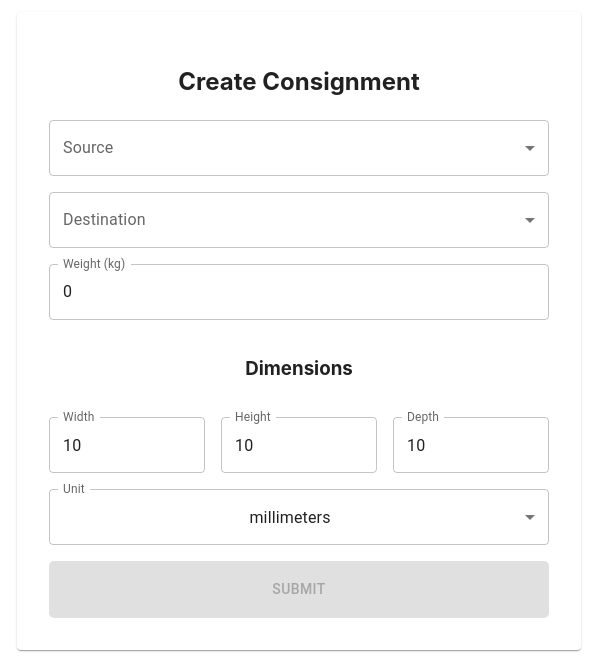
check dimension conversion from unit update
Check: the element with test id "unit-select" is shown, box [49,489,549,545]
Replace the text in the number field labelled "Width" with "100" at (127, 445), box [49,417,205,473]
Replace the text in the number field labelled "Height" with "200" at (299, 445), box [221,417,377,473]
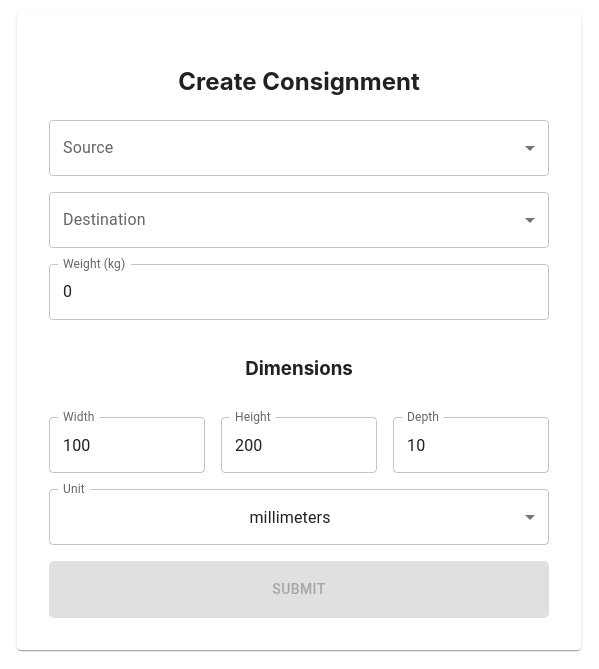
Replace the text in the number field labelled "Depth" with "300" at (471, 445), box [393,417,549,473]
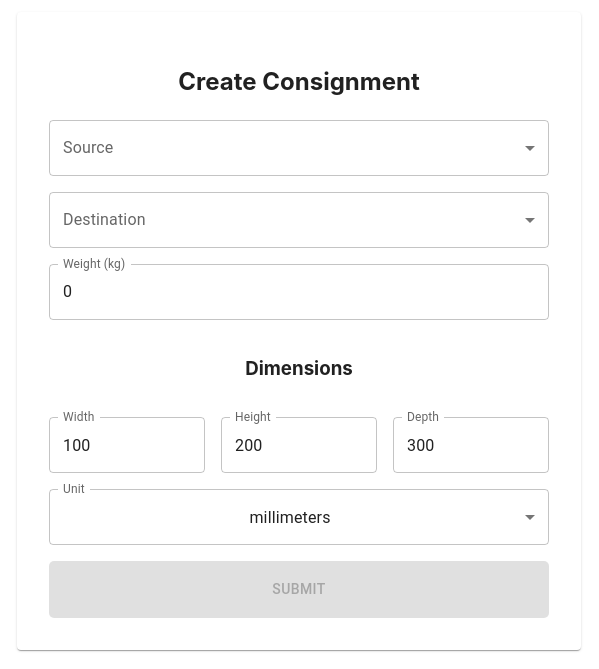
Press the mouse on the dropdown named "Unit" at (290, 517), box [249,508,331,527]
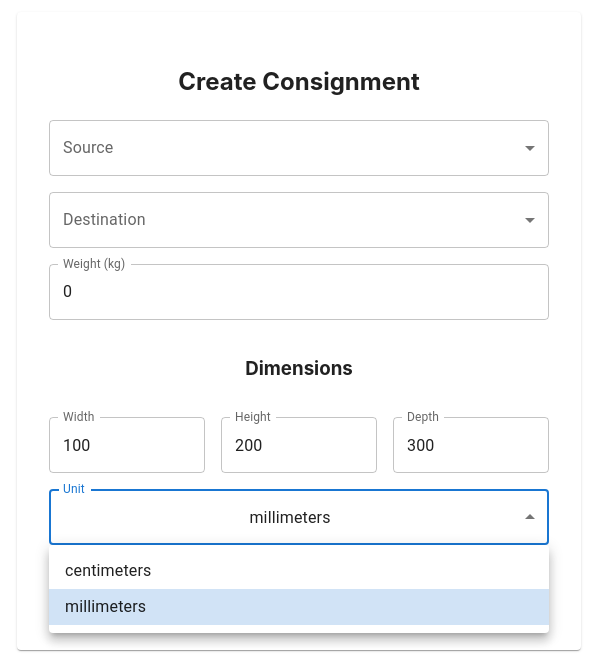
Click the option "centimeters" at (108, 570), box [65,561,151,580]
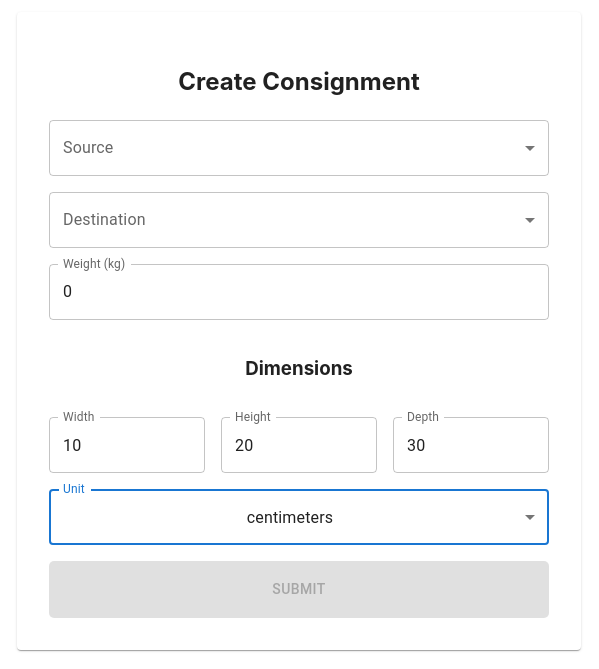
Check: the list is gone
Check: the number field labelled "Width" holds "10", box [49,417,205,473]
Check: the number field labelled "Height" holds "20", box [221,417,377,473]
Press the mouse on the dropdown named "Unit" at (290, 517), box [247,508,333,527]
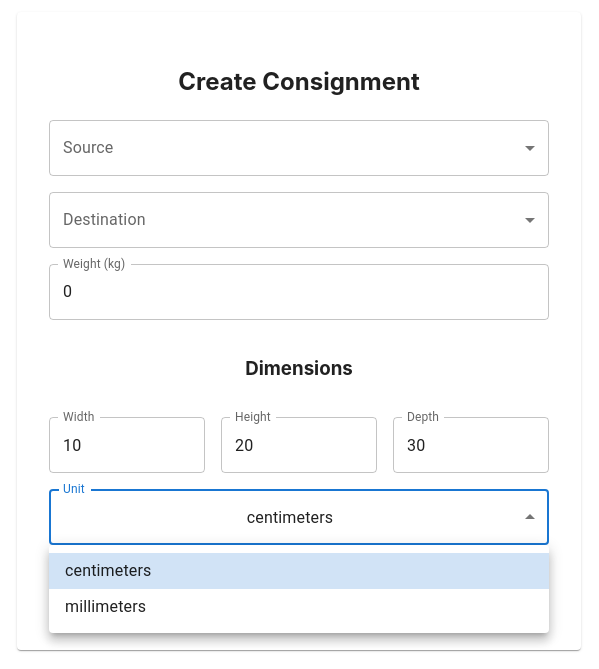
Click the option "millimeters" at (106, 606), box [65,597,146,616]
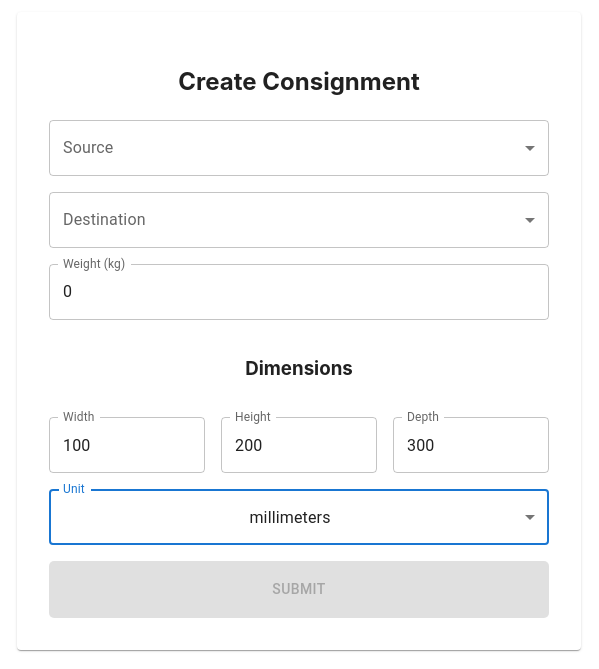
Check: the list is gone
